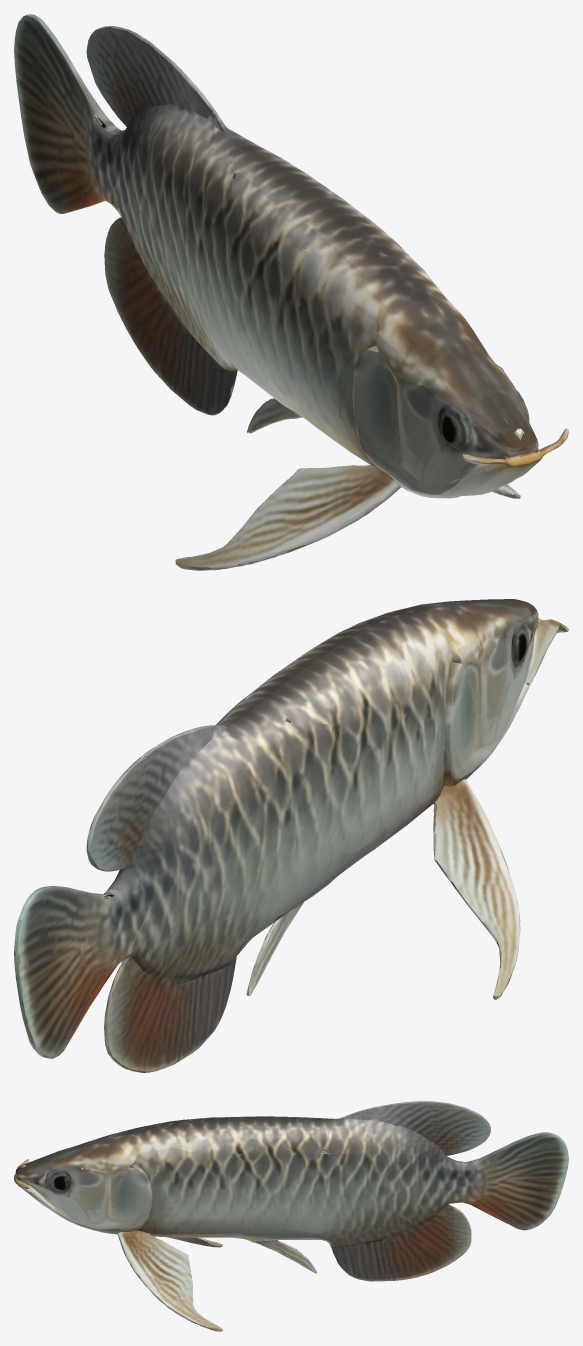
Rendered from arowana.glb.
The picture shows the model from 3 angles, top to bottom: view 1: azimuth 30°, elevation 25°; view 2: azimuth 150°, elevation 25°; view 3: azimuth 270°, elevation 25°; orthographic projection. The views are drawn at different scales.
Visible parts, largest first — view 1: world; view 2: world; view 3: world.
Boxes of the visible parts, x1=… form: world: x1=14, y1=14, x2=568, y2=570; world: x1=14, y1=599, x2=568, y2=1072; world: x1=14, y1=1101, x2=568, y2=1331.
Size of the model in its own units: 0.3645 by 0.3749 by 1.
1 material, 1 textured.
